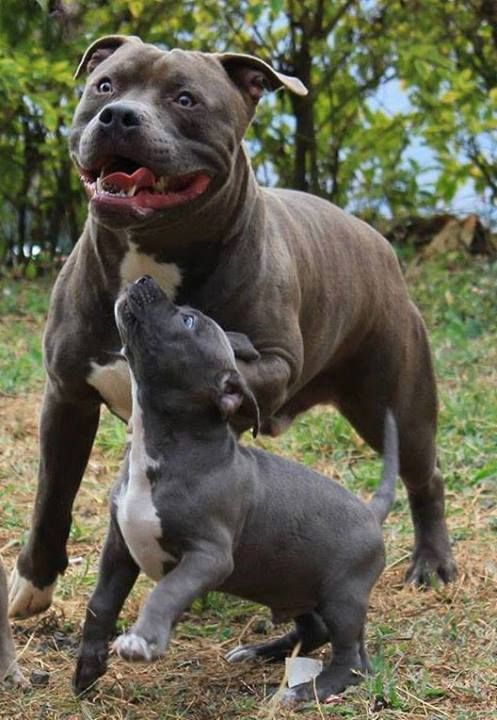Perro Pitbull: (90, 269, 406, 720), (40, 23, 323, 252)
